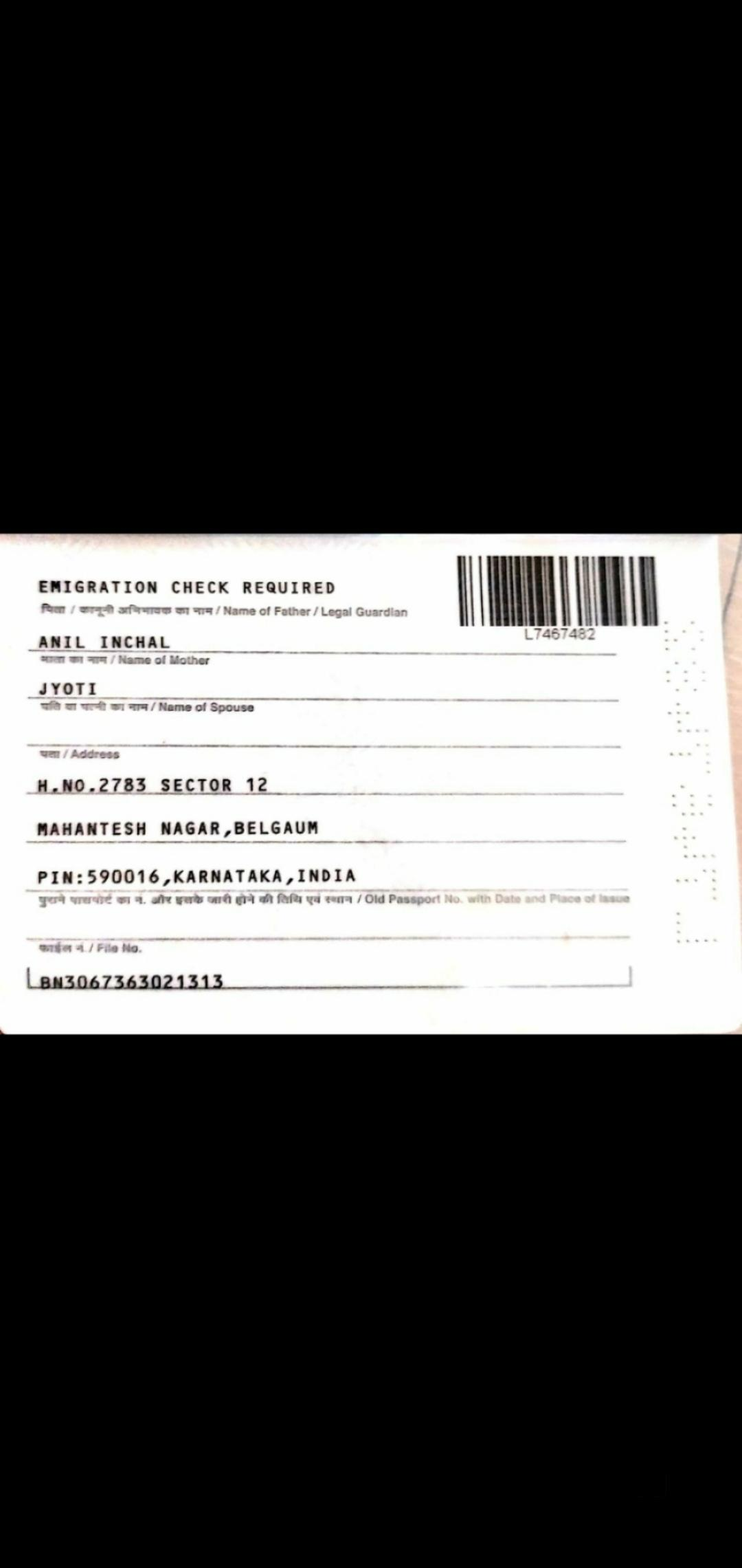File_no: (41, 969, 230, 993)
address: (32, 774, 376, 893)
father_name: (33, 627, 176, 654)
mother_name: (31, 672, 107, 708)
passport_no: (515, 617, 609, 650)
